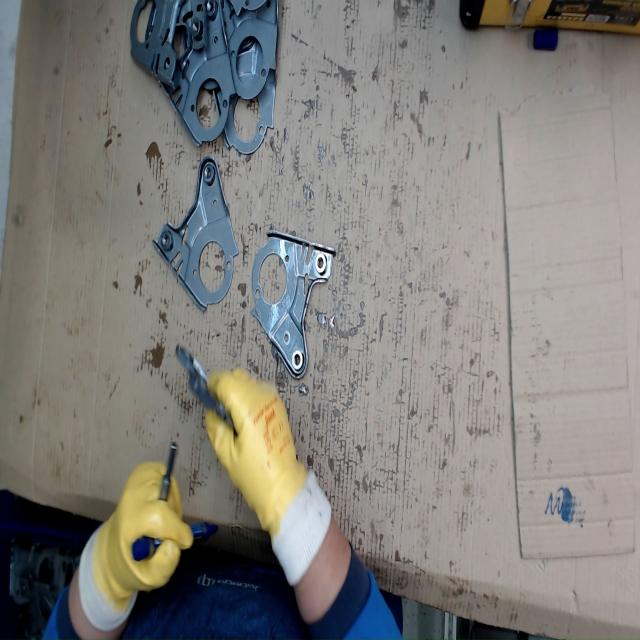hands: (204, 368, 306, 528), (91, 458, 194, 608)
